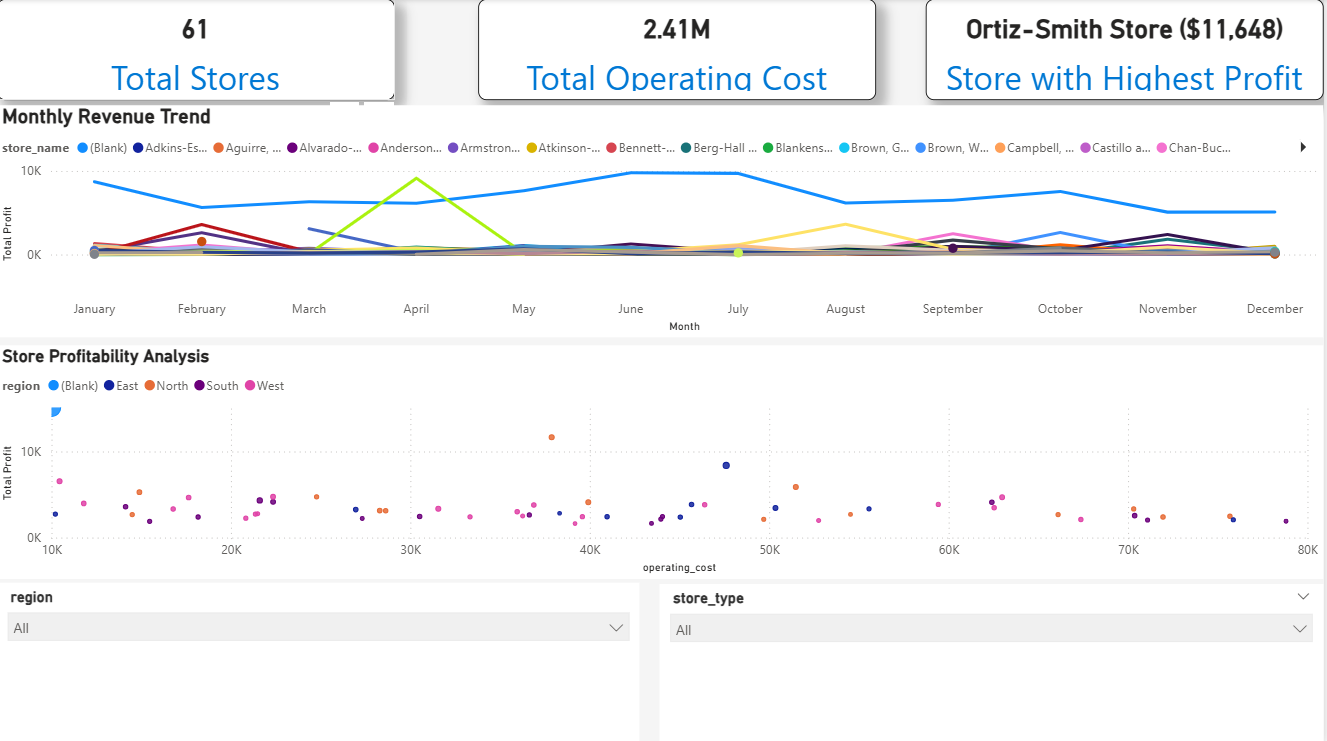

What the dashboard file says about the page in this screenshot:
{"tool":"powerbi","page":{"name":"STORE ANALYSIS","canvas":[1280,720],"ordinal":3},"visuals":[{"type":"card","fields":{"Values":["sql_store.Total Stores"]},"box":[0,0,383.6,97.7],"z":0},{"type":"card","fields":{"Values":["sql_store.Total Operating Cost"]},"box":[464.5,0,383.6,97.7],"z":1000},{"type":"card","fields":{"Values":["sql_store.Store with Highest Profit"]},"box":[896.4,0,383.6,97.7],"z":2000},{"type":"lineChart","title":"Monthly Revenue Trend","fields":{"Category":["sql_sales.order_date.Variation.Date Hierarchy.Month"],"Y":["sql_sales.Total Profit"],"Series":["sql_store.store_name"]},"box":[0,102.5,1280,224.4],"z":3000},{"type":"scatterChart","title":"Store Profitability Analysis","fields":{"X":["sql_store.operating_cost"],"Y":["sql_sales.Total Profit"],"Series":["sql_store.region"],"Size":["sql_sales.Total Quantity"]},"box":[0,334.2,1280,225.6],"z":4000},{"type":"slicer","fields":{"Values":["sql_store.region"]},"box":[0,563.4,620.1,154.4],"z":5000},{"type":"slicer","fields":{"Values":["sql_store.store_type"]},"box":[639.4,564.6,640.6,153.2],"z":6000}]}

Visuals, with their boxes in screenshot pixels (x1, y1, x2, y2), scaled from the page's 1280x720 canvas onto the 1327x741 screenshot:
card - sql_store.Total Stores: locate(0, 0, 398, 101)
card - sql_store.Total Operating Cost: locate(482, 0, 879, 101)
card - sql_store.Store with Highest Profit: locate(929, 0, 1326, 101)
"Monthly Revenue Trend" lineChart: locate(0, 105, 1326, 336)
"Store Profitability Analysis" scatterChart: locate(0, 344, 1326, 576)
slicer - sql_store.region: locate(0, 580, 643, 739)
slicer - sql_store.store_type: locate(663, 581, 1326, 739)
